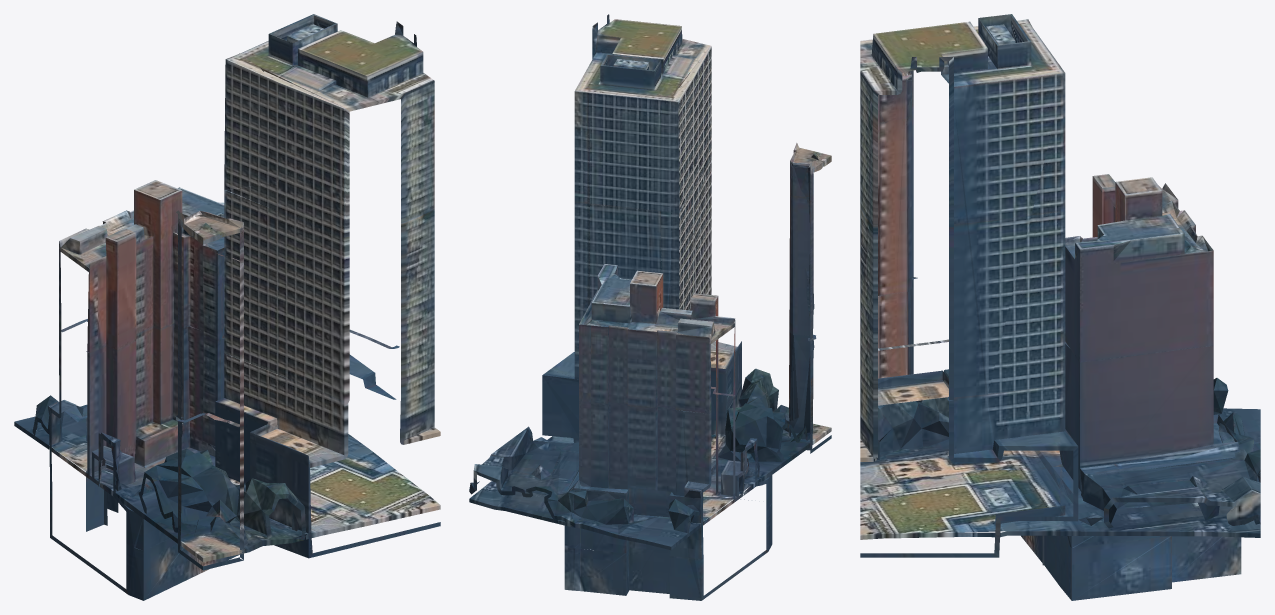
The model's file is chunk_-5_-3.glb.
3 renders of one model, left to right at view 1: azimuth 30°, elevation 25°; view 2: azimuth 150°, elevation 25°; view 3: azimuth 270°, elevation 25°, orthographic. The views are drawn at different scales.
Visible parts, largest first — view 1: hero-chunk; view 2: hero-chunk; view 3: hero-chunk.
Part boxes in pixels (box(x1,y1,x2,y2)): hero-chunk: box(14, 14, 440, 600); hero-chunk: box(469, 14, 831, 600); hero-chunk: box(860, 14, 1260, 600).
Size of the model in its own units: 56.65 by 120 by 76.32.
Materials: 4 (4 with a texture image).
